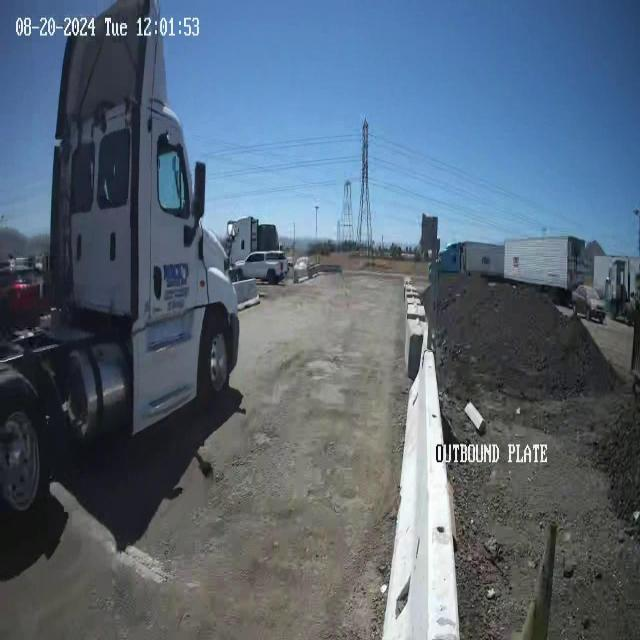TRUCK_IN: (1, 0, 241, 516)
